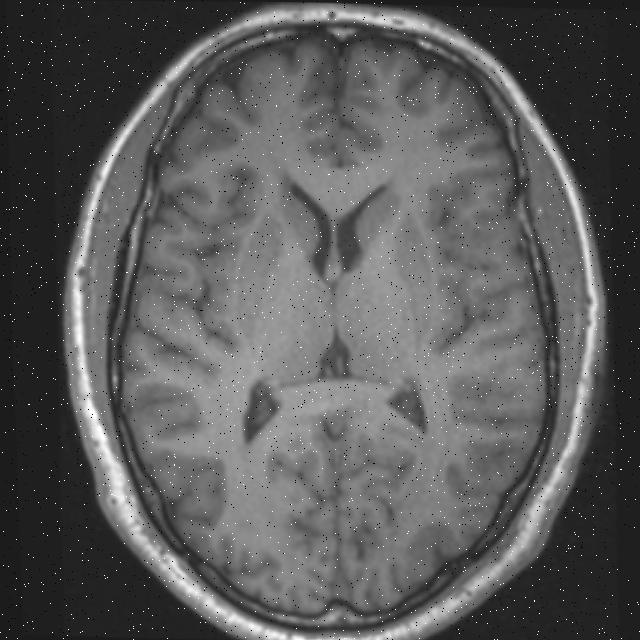NoTumor: (76, 17, 585, 640)
